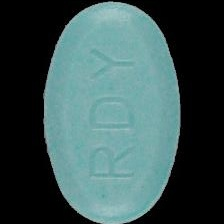50436-7074: (0, 0, 224, 224)
